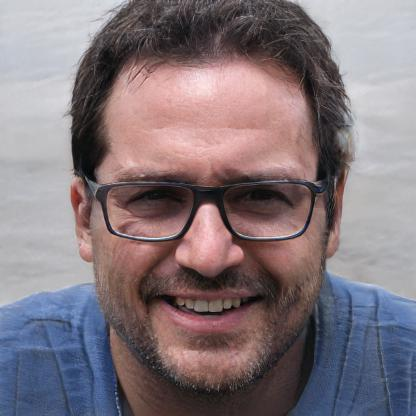glasses: (89, 175, 329, 250)
